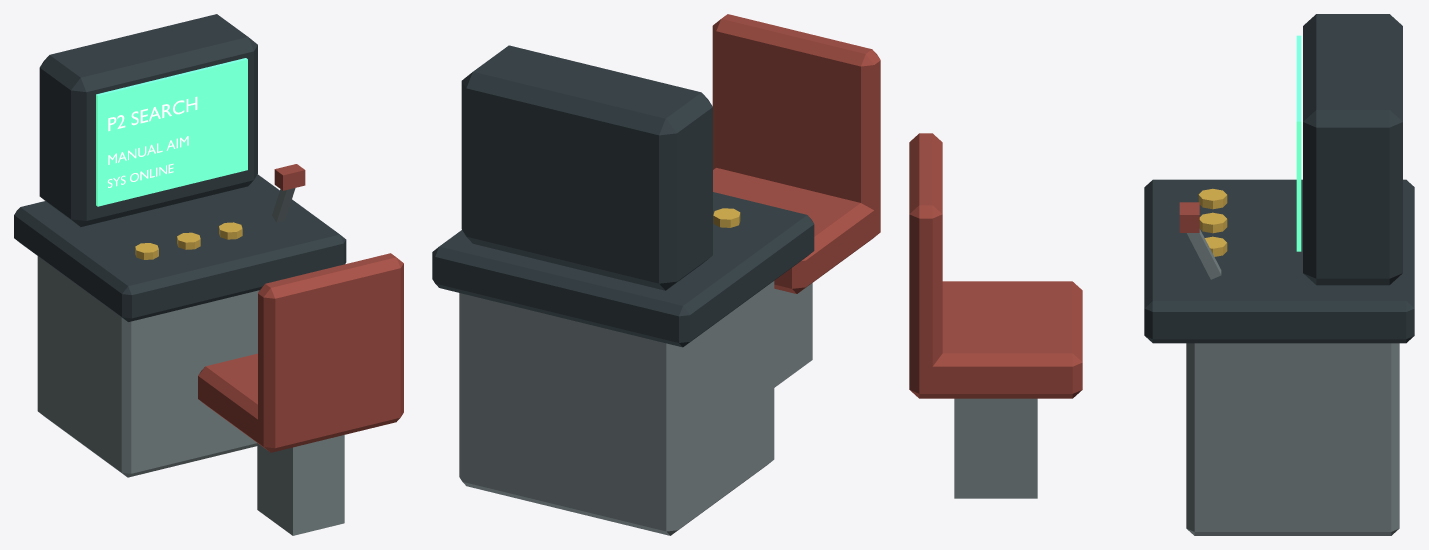
Rendered from DeadRail_Search_Control.fbx.
The picture shows the model from 3 angles, left to right: view 1: azimuth 30°, elevation 25°; view 2: azimuth 150°, elevation 25°; view 3: azimuth 270°, elevation 25°; orthographic projection. The views are drawn at different scales.
Visible parts, largest first — view 1: Console_Base.008, Console_Desk.008, Seat_Back.008, CRT_Housing.008, CRT_Screen.008, Operator_Seat.008, Seat_Pedestal.008, Lever_Grip.008, CRT_Title.008, Lever.008; view 2: Console_Base.008, CRT_Housing.008, Seat_Back.008, Console_Desk.008, Operator_Seat.008, Seat_Pedestal.008; view 3: Console_Base.008, Console_Desk.008, CRT_Housing.008, Operator_Seat.008, Seat_Pedestal.008, Seat_Back.008, CRT_Screen.008, Lever.008, Lever_Grip.008.
Part boxes in pixels (x1,y1,x2,y2): Console_Base.008: [37, 256, 259, 477]; Console_Desk.008: [14, 174, 346, 321]; Seat_Back.008: [258, 253, 403, 424]; CRT_Housing.008: [39, 14, 257, 226]; CRT_Screen.008: [96, 58, 247, 206]; Operator_Seat.008: [198, 353, 403, 452]; Seat_Pedestal.008: [257, 435, 344, 535]; Lever_Grip.008: [274, 164, 305, 190]; CRT_Title.008: [108, 96, 197, 131]; Lever.008: [272, 188, 295, 222]; Console_Base.008: [459, 281, 774, 535]; CRT_Housing.008: [461, 45, 712, 290]; Seat_Back.008: [712, 14, 880, 210]; Console_Desk.008: [432, 192, 814, 347]; Operator_Seat.008: [713, 168, 880, 293]; Seat_Pedestal.008: [774, 283, 812, 387]; Console_Base.008: [1186, 343, 1399, 535]; Console_Desk.008: [1144, 179, 1414, 343]; CRT_Housing.008: [1303, 14, 1402, 285]; Operator_Seat.008: [909, 281, 1082, 398]; Seat_Pedestal.008: [954, 398, 1037, 498]; Seat_Back.008: [909, 133, 942, 366]; CRT_Screen.008: [1296, 35, 1301, 251]; Lever.008: [1187, 229, 1221, 279]; Lever_Grip.008: [1179, 202, 1199, 232].
Bounding box in the file's own units: 0.91 × 1.4 × 1.52.
